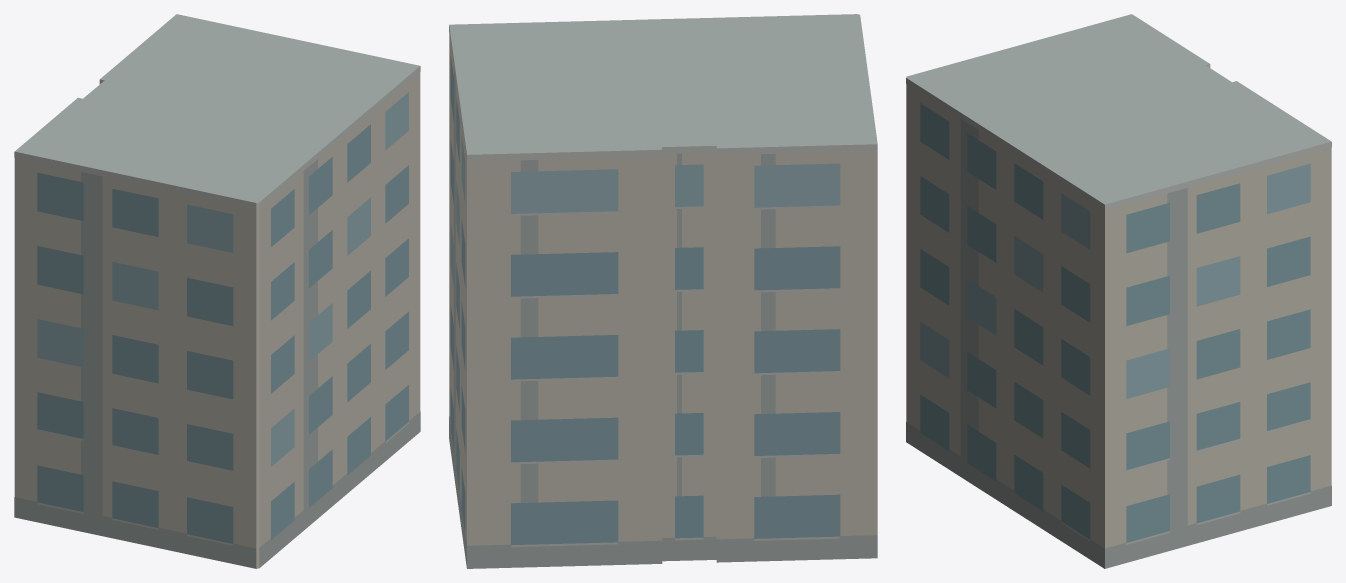
File: residential-bd1087c3-88e1-4a0b-a064-45a3395dbddb.glb
The picture shows the model from 3 angles, left to right: view 1: azimuth 30°, elevation 25°; view 2: azimuth 150°, elevation 25°; view 3: azimuth 270°, elevation 25°; orthographic projection. The views are drawn at different scales.
Parts seen in each view (by area): view 1: residential-bd1087c3-88e1-4a0b-a064-45a3395dbddb.tmp; view 2: residential-bd1087c3-88e1-4a0b-a064-45a3395dbddb.tmp; view 3: residential-bd1087c3-88e1-4a0b-a064-45a3395dbddb.tmp.
Part boxes in pixels (x1,y1,x2,y2): residential-bd1087c3-88e1-4a0b-a064-45a3395dbddb.tmp: [14, 14, 420, 568]; residential-bd1087c3-88e1-4a0b-a064-45a3395dbddb.tmp: [449, 14, 877, 568]; residential-bd1087c3-88e1-4a0b-a064-45a3395dbddb.tmp: [906, 14, 1331, 568].
Size of the model in its own units: 16.33 by 14.55 by 15.42.
